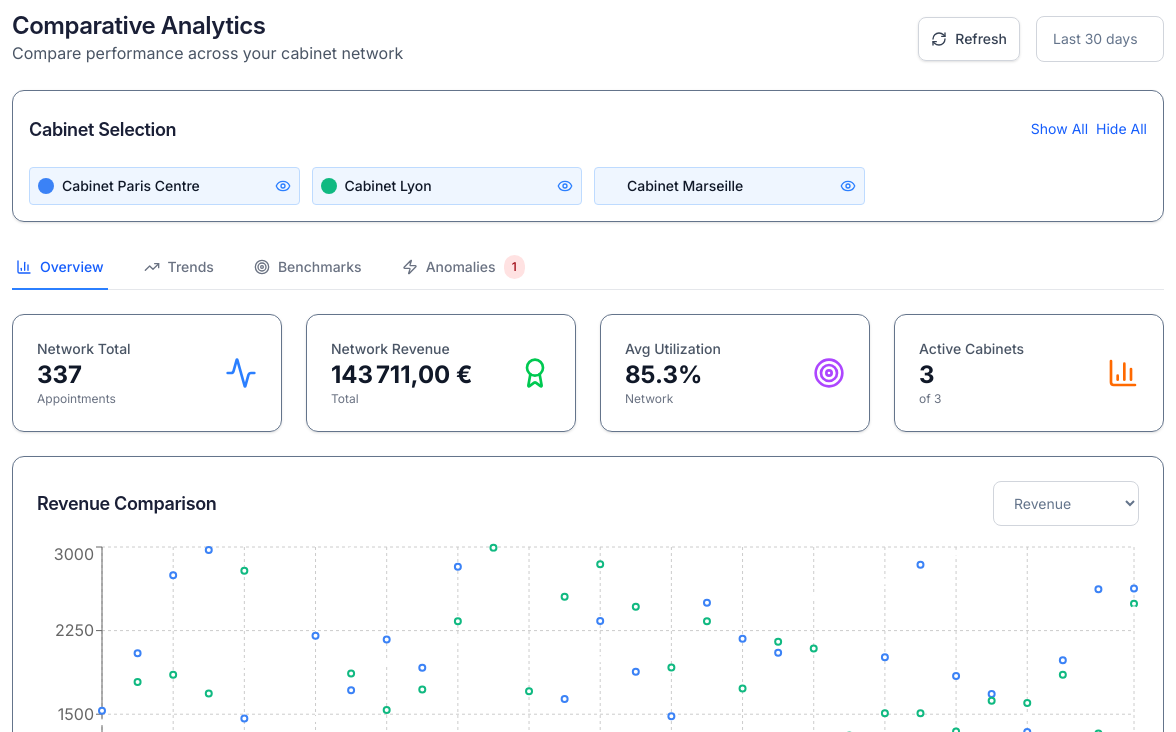
Test case: ComparativeAnalyticsDashboard › switches between different views
Expected: the text "Overview" is shown, [40,257,104,277]
// Test switching to trends view
Click the button "Trends" at [179, 268], box [140,246,218,290]
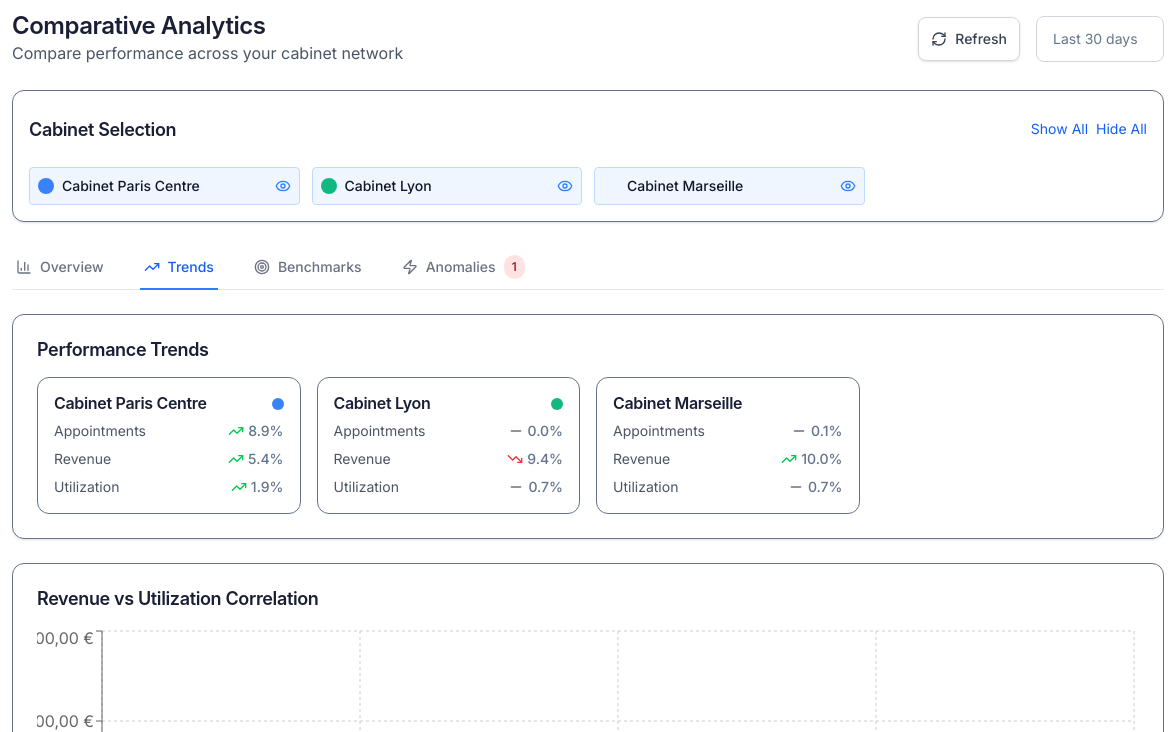
Expected: the heading "Performance Trends" is shown, [37,339,209,360]
// Test switching to benchmarks view
Click the button "Benchmarks" at [308, 268], box [250,246,366,290]
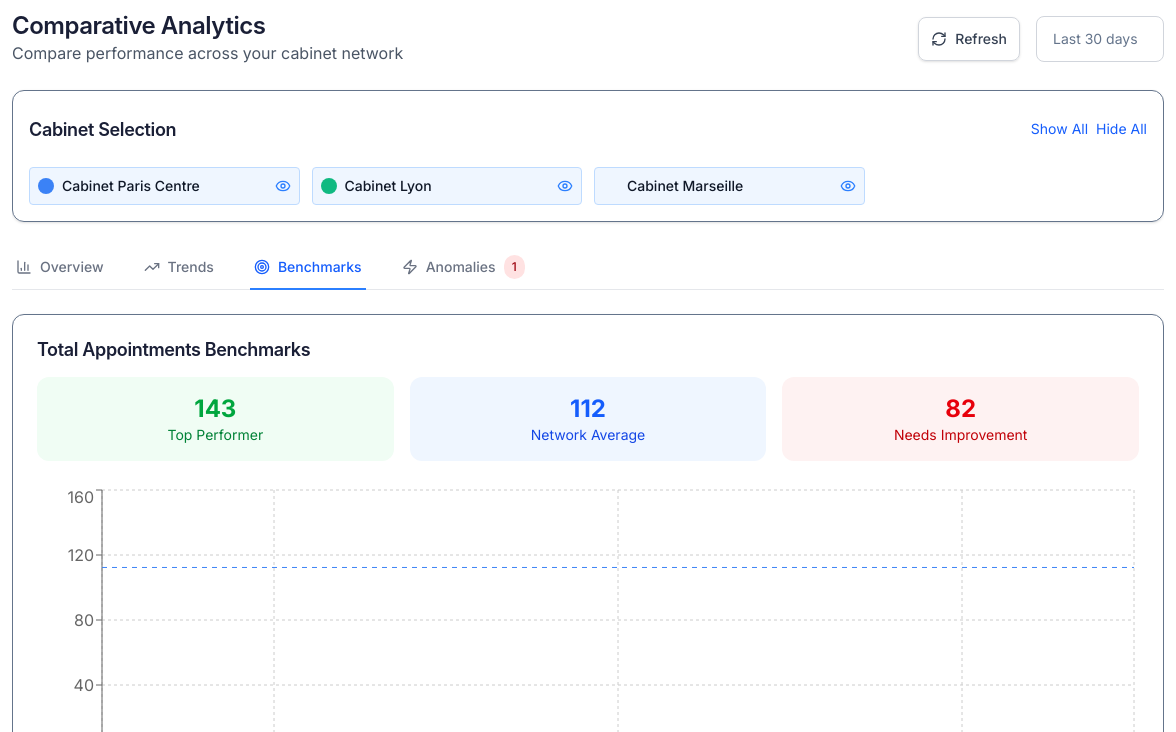
Expected: the heading "Total Appointments Benchmarks" is shown, [37,339,310,360]
// Test switching to anomalies view
Click the text "Anomalies" at [461, 267], box [426,257,496,277]
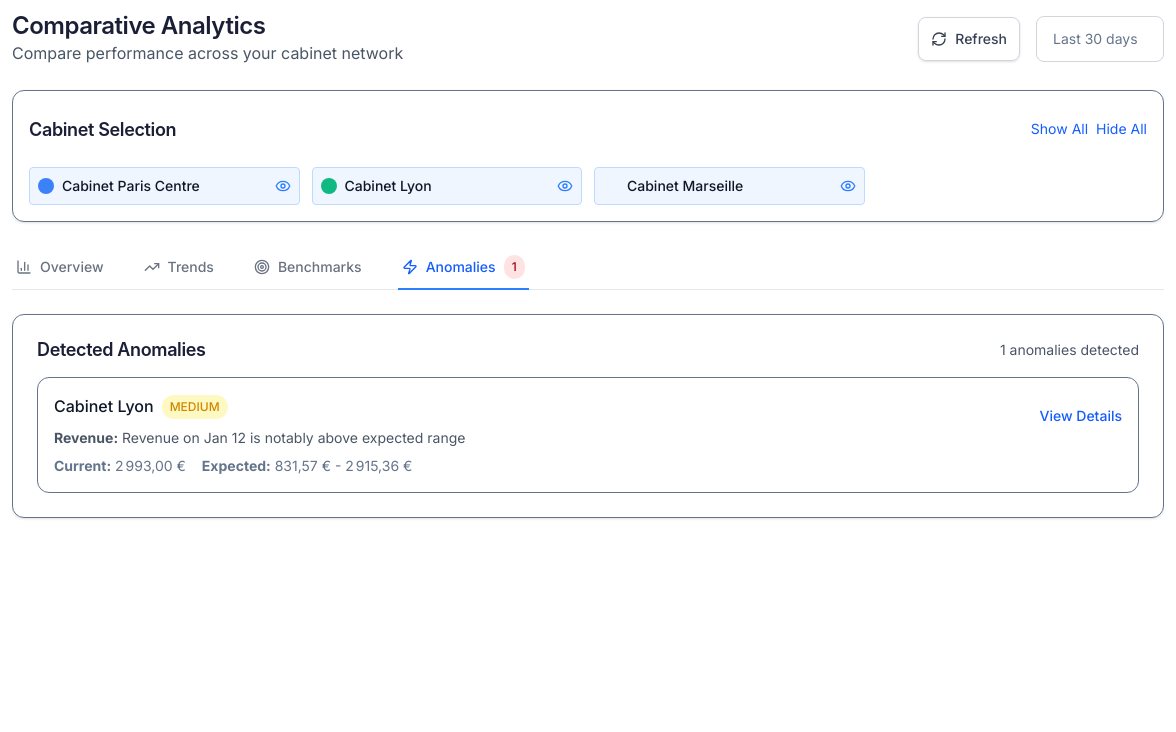
Expected: the heading "Detected Anomalies" is shown, [37,339,206,361]
